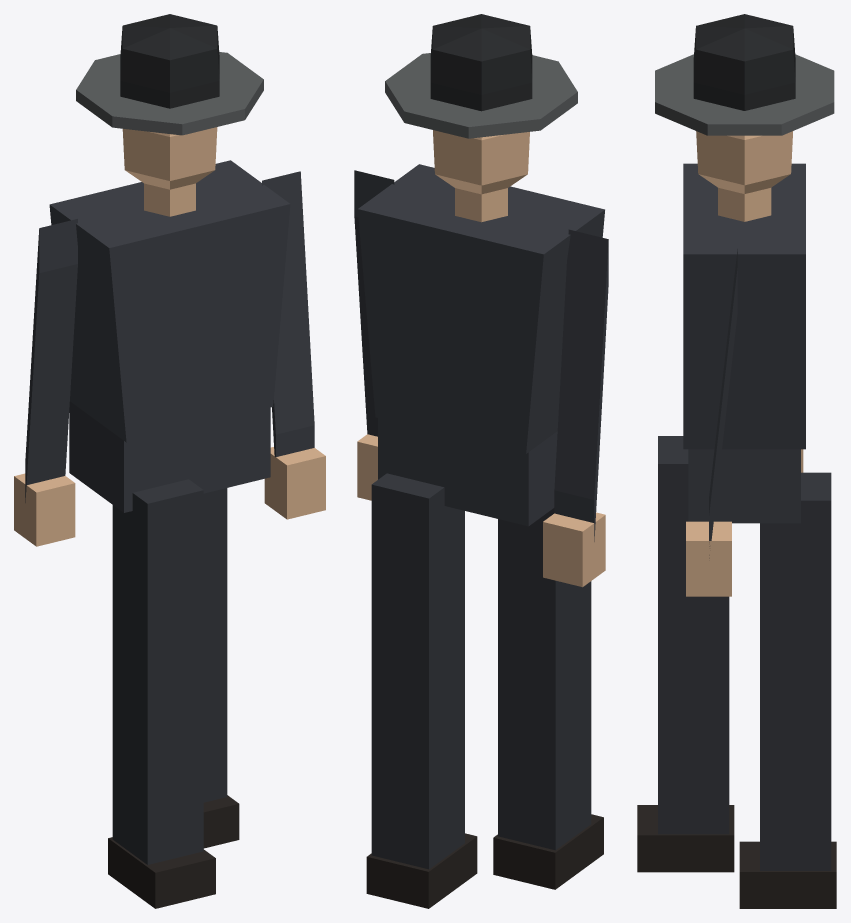
Rendered from life_person_a.glb.
3 renders of one model, left to right at view 1: azimuth 30°, elevation 25°; view 2: azimuth 150°, elevation 25°; view 3: azimuth 270°, elevation 25°, orthographic. The views are drawn at different scales.
Parts seen in each view (by area): view 1: life_person_a; view 2: life_person_a; view 3: life_person_a.
Part boxes in pixels (x1,y1,x2,y2): life_person_a: (14, 14, 325, 908); life_person_a: (354, 14, 608, 908); life_person_a: (637, 14, 836, 908).
Size of the model in its own units: 0.59 by 1.83 by 0.39.
